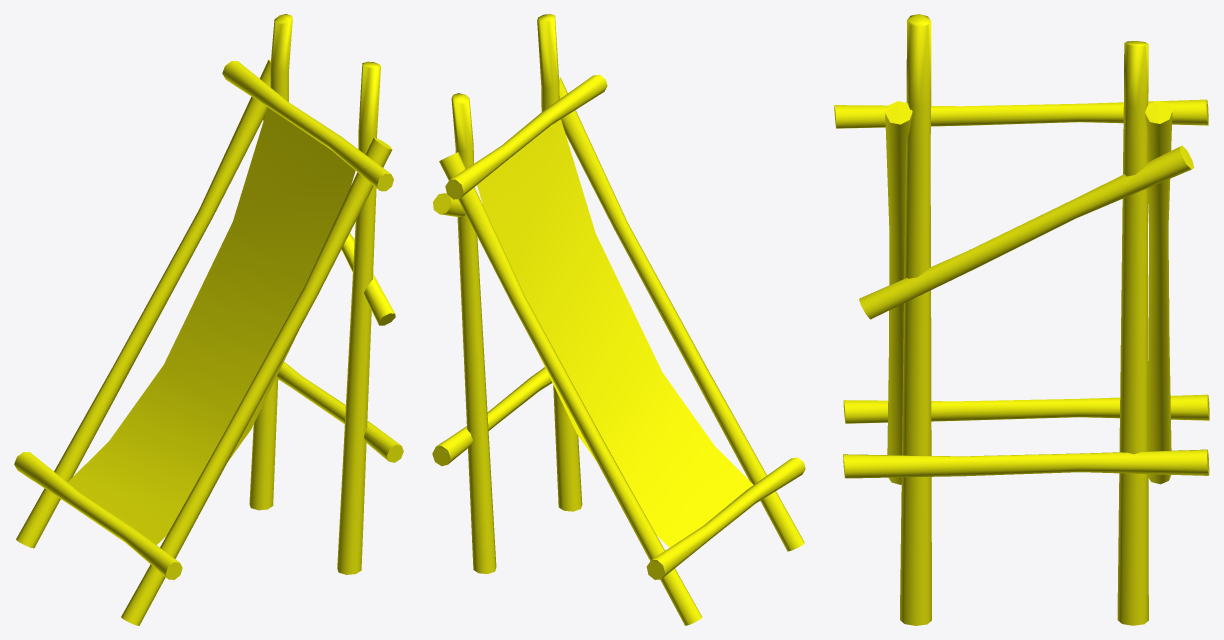
The model's file is camp_redthief_deco_01.glb.
3 views of the same model, side by side, from view 1: azimuth 30°, elevation 25°; view 2: azimuth 150°, elevation 25°; view 3: azimuth 270°, elevation 25° (orthographic). The views are drawn at different scales.
Visible parts, largest first — view 1: camp_redthief_deco_01; view 2: camp_redthief_deco_01; view 3: camp_redthief_deco_01.
Boxes of the visible parts, x1,y1,x2,y2 form: camp_redthief_deco_01: [14, 14, 403, 625]; camp_redthief_deco_01: [432, 14, 805, 625]; camp_redthief_deco_01: [834, 14, 1209, 625].
Bounding box in the file's own units: 4.4 × 7.82 × 4.32.
Materials: 2 (2 with a texture image).
